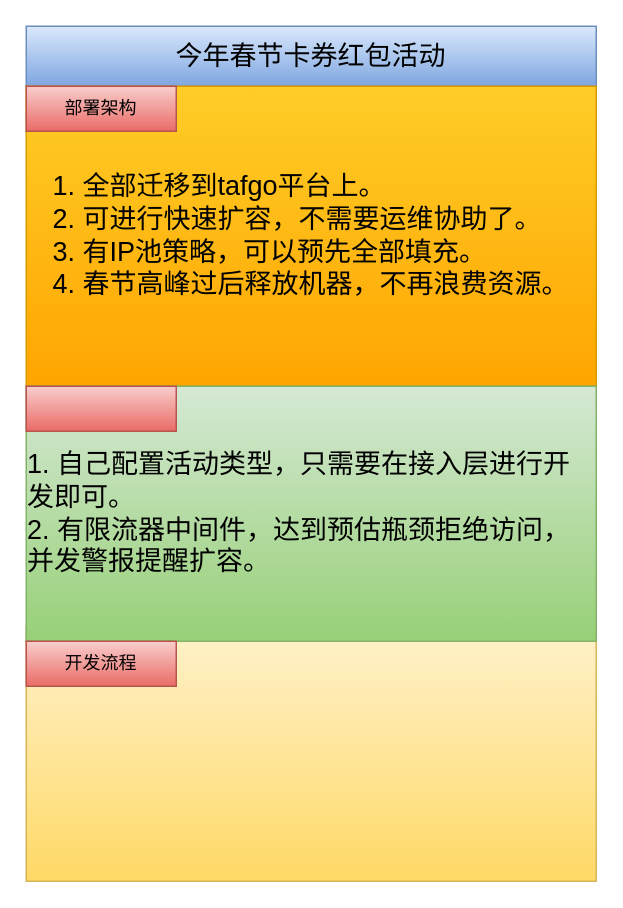
This 623x908 diagram has some shape labels left out. Each missing label, with the box of its shape:
1. 接入qci，规范git分支，push到test&pre分支后，自动编译发布。 2. IP设置白名单，直接在sparta上进行修改，更高效。: (25, 625, 596, 881)
开发设计: (25, 385, 176, 431)
